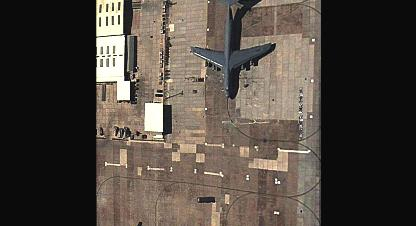C17: (189, 0, 271, 98)
